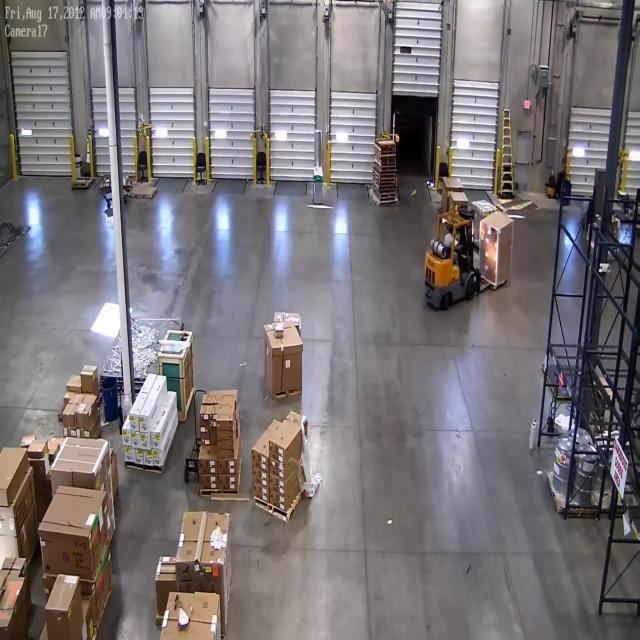driver: (445, 230, 459, 258)
forklift: (423, 202, 480, 314)
